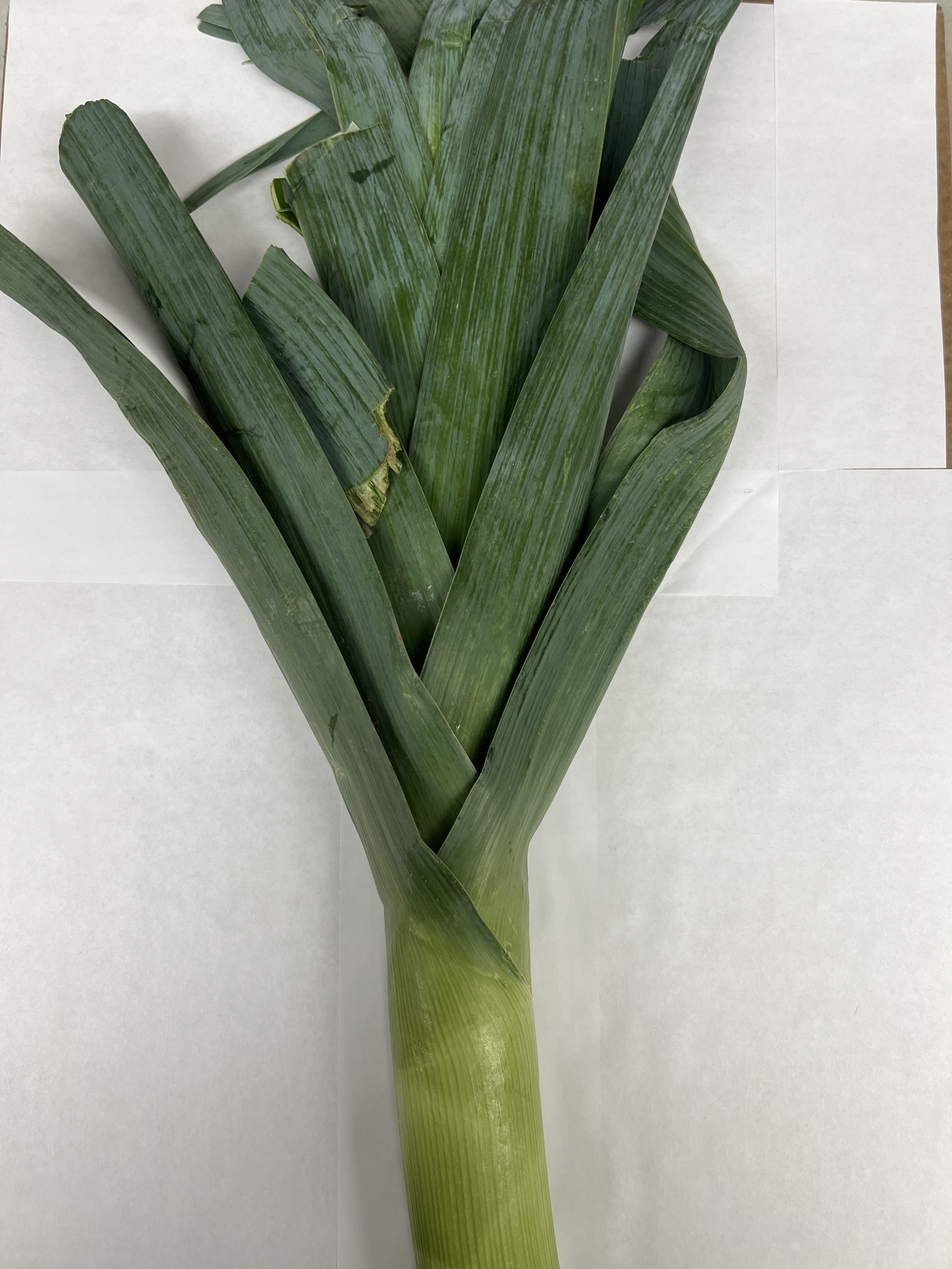produce: (24, 4, 755, 1262)
